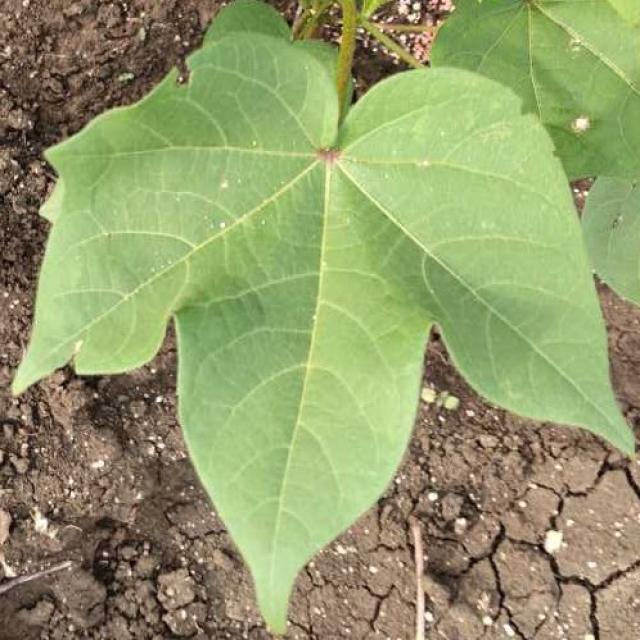Healthy Leaf: (37, 5, 640, 639)
